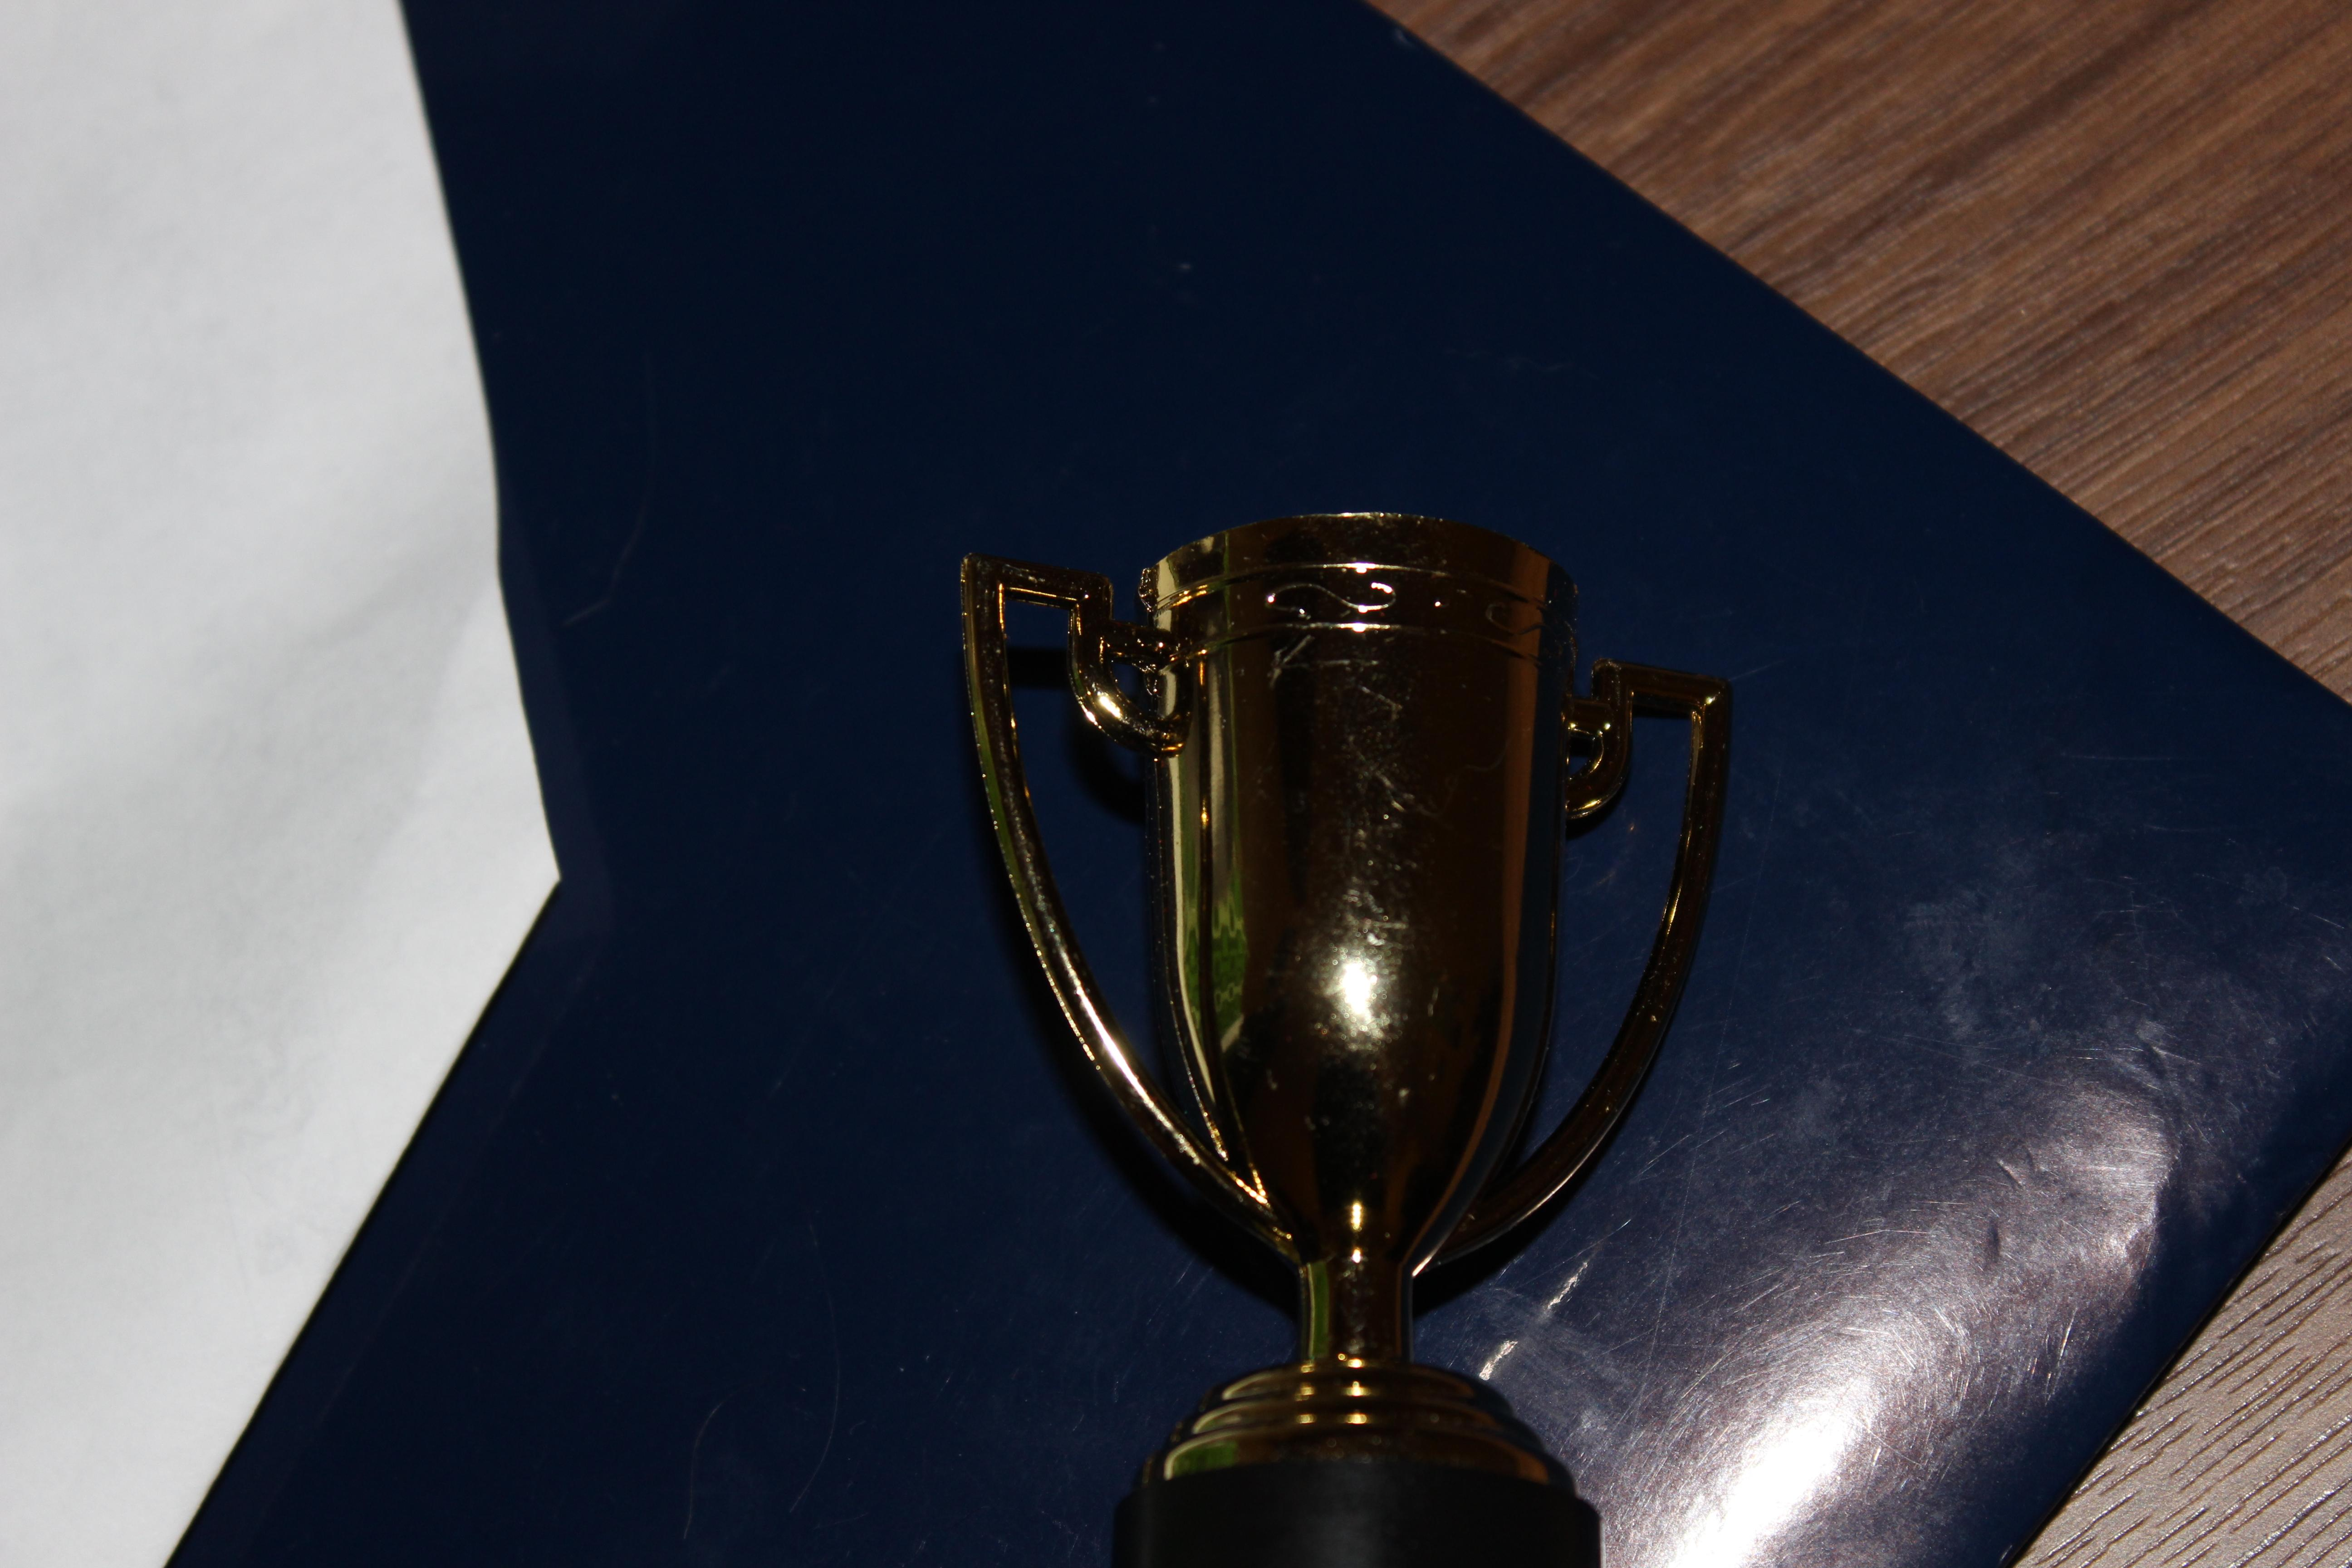trophy: (910, 485, 1811, 1568)
